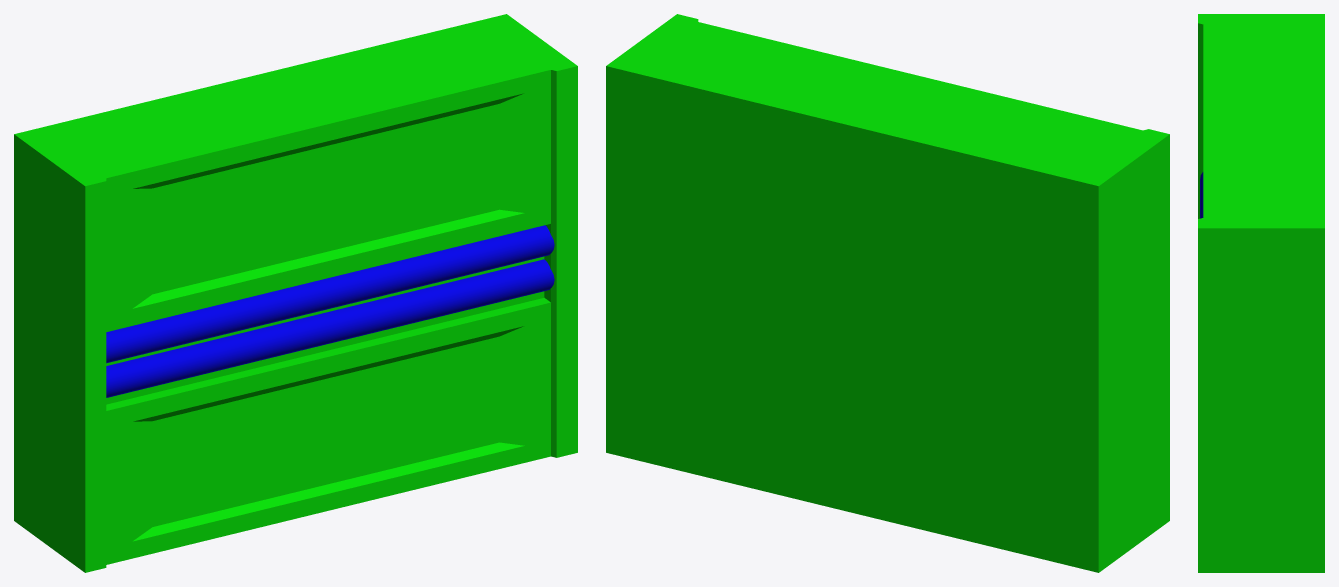
The model's file is SM_Wall1.fbx.
The picture shows the model from 3 angles, left to right: view 1: azimuth 30°, elevation 25°; view 2: azimuth 150°, elevation 25°; view 3: azimuth 270°, elevation 25°; orthographic projection. The views are drawn at different scales.
Visible parts, largest first — view 1: pCylinder7; view 2: pCylinder7; view 3: pCylinder7.
Part boxes in pixels (x1=…): pCylinder7: x1=14, y1=14, x2=577, y2=572; pCylinder7: x1=606, y1=14, x2=1169, y2=572; pCylinder7: x1=1198, y1=14, x2=1324, y2=572.
Size of the model in its own units: 4 by 3 by 1.
